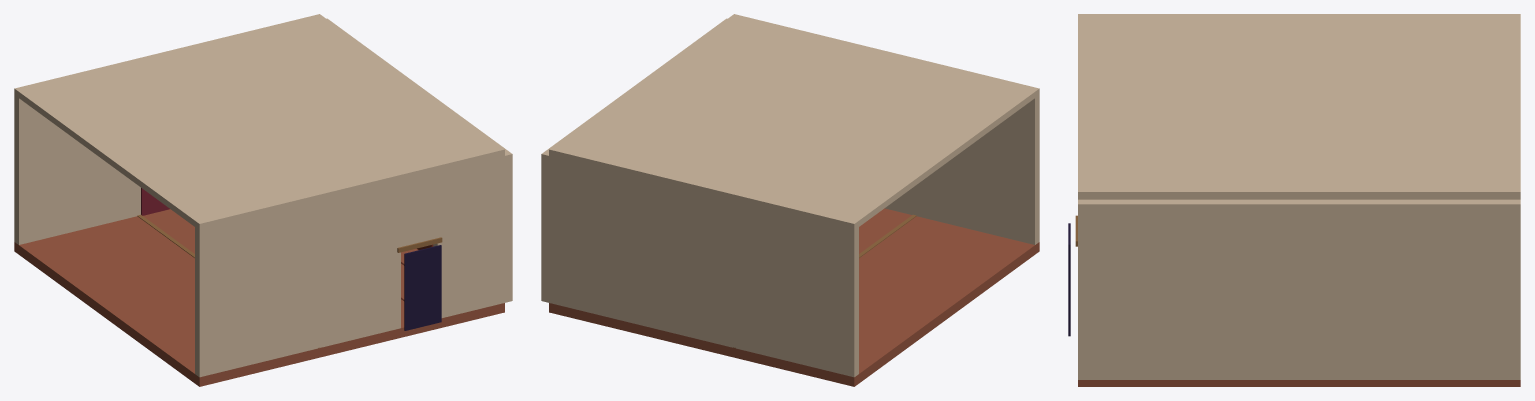
Rendered from kiln_exchange_room.gltf.
3 renders of one model, left to right at view 1: azimuth 30°, elevation 25°; view 2: azimuth 150°, elevation 25°; view 3: azimuth 270°, elevation 25°, orthographic. The views are drawn at different scales.
Visible parts, largest first — view 1: ceiling, right_wall, floor, left_wall, right_wall.2, doorway, lintel, back_wall, left_dado; view 2: ceiling, left_wall, floor, right_wall, back_wall; view 3: ceiling, back_wall, floor.
Boxes of the visible parts, left/top/right/bottom form: ceiling: left=14, top=14, right=504, bottom=230; right_wall: left=195, top=181, right=400, bottom=377; floor: left=14, top=209, right=504, bottom=386; left_wall: left=14, top=95, right=140, bottom=244; right_wall.2: left=433, top=156, right=504, bottom=317; doorway: left=404, top=245, right=441, bottom=330; lintel: left=401, top=172, right=437, bottom=246; back_wall: left=326, top=18, right=512, bottom=302; left_dado: left=141, top=188, right=169, bottom=215; ceiling: left=549, top=14, right=1039, bottom=230; left_wall: left=549, top=156, right=858, bottom=377; floor: left=549, top=208, right=1039, bottom=386; right_wall: left=885, top=95, right=1039, bottom=244; back_wall: left=541, top=18, right=727, bottom=302; ceiling: left=1078, top=14, right=1520, bottom=199; back_wall: left=1078, top=199, right=1520, bottom=379; floor: left=1078, top=380, right=1520, bottom=386.
Size of the model in its own units: 10.25 by 5.1 by 10.72.
